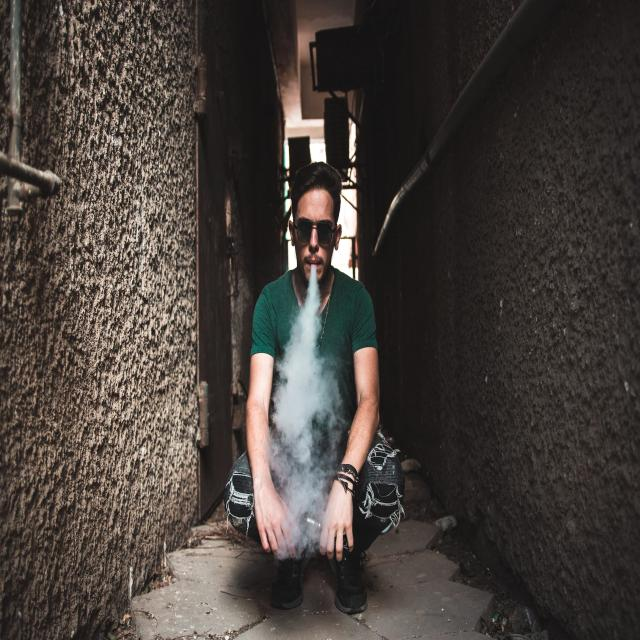adult: (224, 160, 403, 620)
